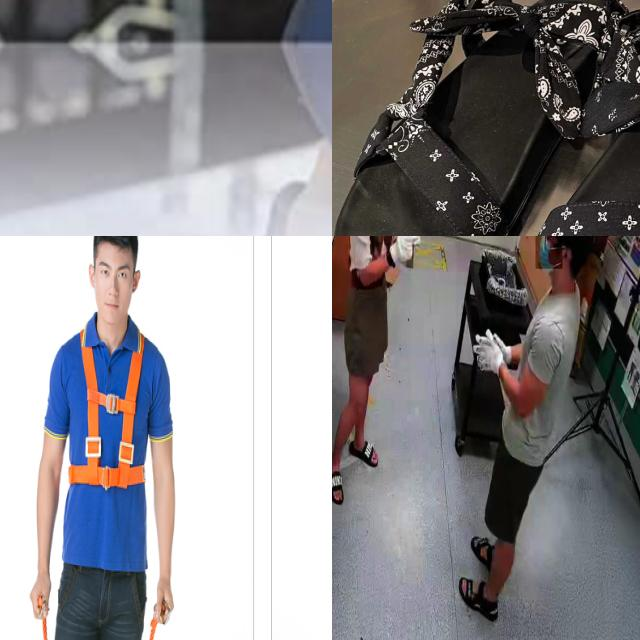Harness: (67, 315, 149, 554)
No_Glasses: (96, 260, 132, 286)
Sandals: (332, 0, 640, 236)
face_mask: (535, 236, 562, 269)
hand_glove: (474, 332, 514, 372), (389, 236, 414, 273)
person: (456, 236, 605, 639), (332, 236, 411, 502)
